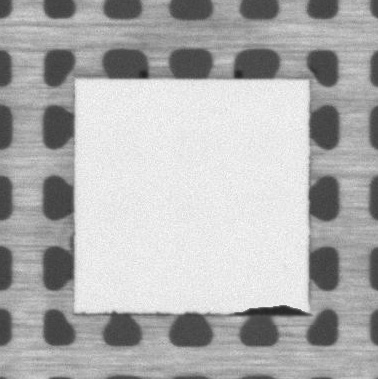DIE_BROKEN: (235, 302, 312, 318)
